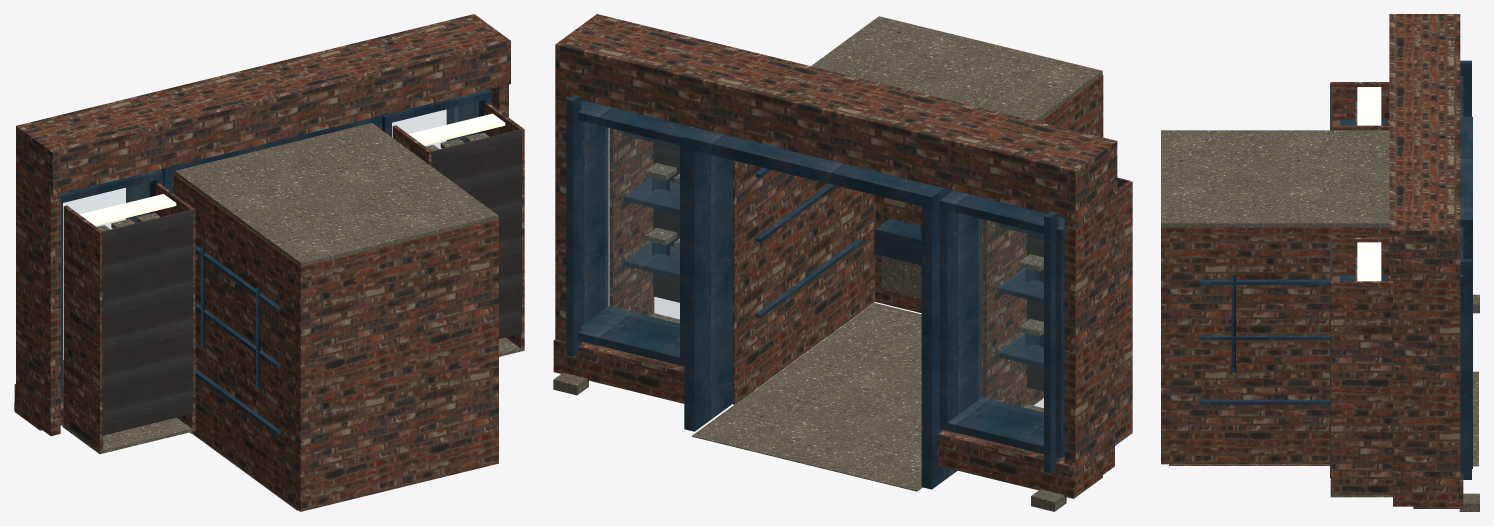
The model's file is brickwater_retail.gltf.
The picture shows the model from 3 angles, left to right: view 1: azimuth 30°, elevation 25°; view 2: azimuth 150°, elevation 25°; view 3: azimuth 270°, elevation 25°; orthographic projection. The views are drawn at different scales.
Visible parts, largest first — view 1: STORE_brickwater_retail; view 2: STORE_brickwater_retail; view 3: STORE_brickwater_retail.
Part boxes in pixels (x1,y1,x2,y2): STORE_brickwater_retail: (14,14,524,511); STORE_brickwater_retail: (553,14,1132,511); STORE_brickwater_retail: (1161,14,1479,511).
Bounding box in the file's own units: 6.56 × 4.2 × 4.08.
Materials: 6 (4 with a texture image).
